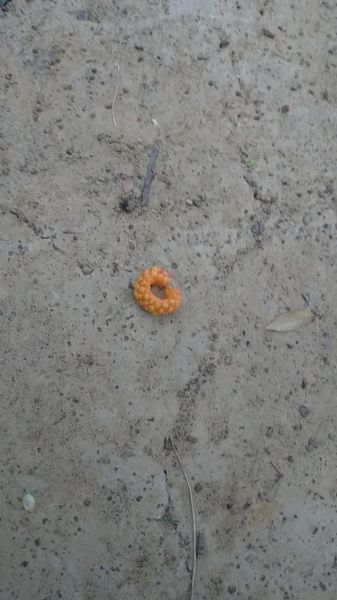eggs: (134, 261, 186, 318)
